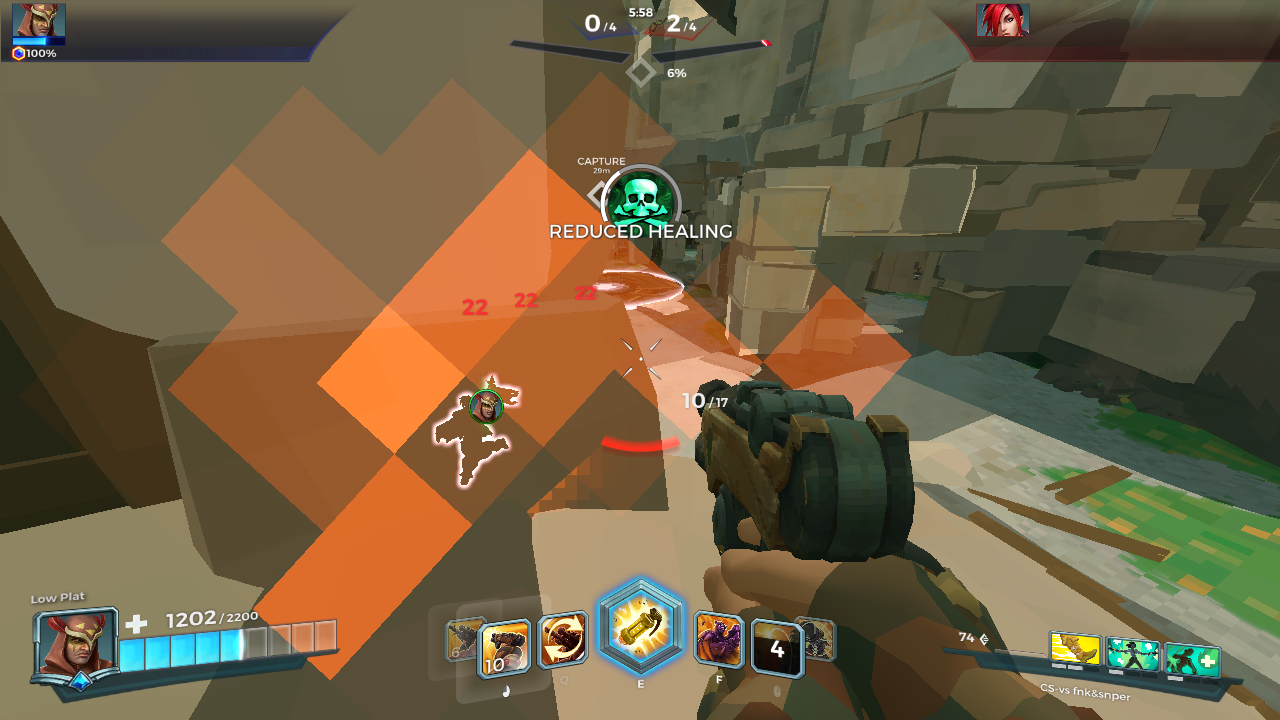model: (430, 369, 519, 489)
